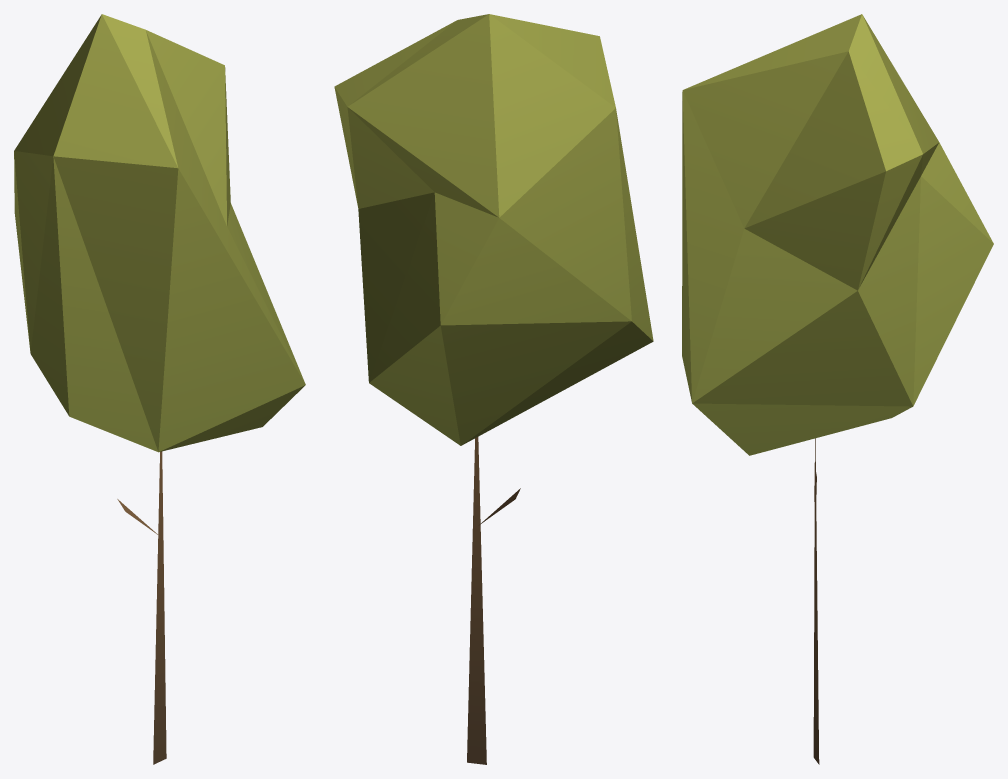
File: tree_09.glb
3 views of the same model, side by side, from view 1: azimuth 30°, elevation 25°; view 2: azimuth 150°, elevation 25°; view 3: azimuth 270°, elevation 25° (orthographic). The views are drawn at different scales.
Parts seen in each view (by area): view 1: Spring_Tree_09_LOD1; view 2: Spring_Tree_09_LOD1; view 3: Spring_Tree_09_LOD1.
Boxes of the visible parts, x1,y1,x2,y2 form: Spring_Tree_09_LOD1: (14, 14, 305, 764); Spring_Tree_09_LOD1: (334, 14, 653, 764); Spring_Tree_09_LOD1: (682, 14, 993, 764).
Bounding box in the file's own units: 1.2 × 3.56 × 1.38.
Materials: 1 (1 with a texture image).
